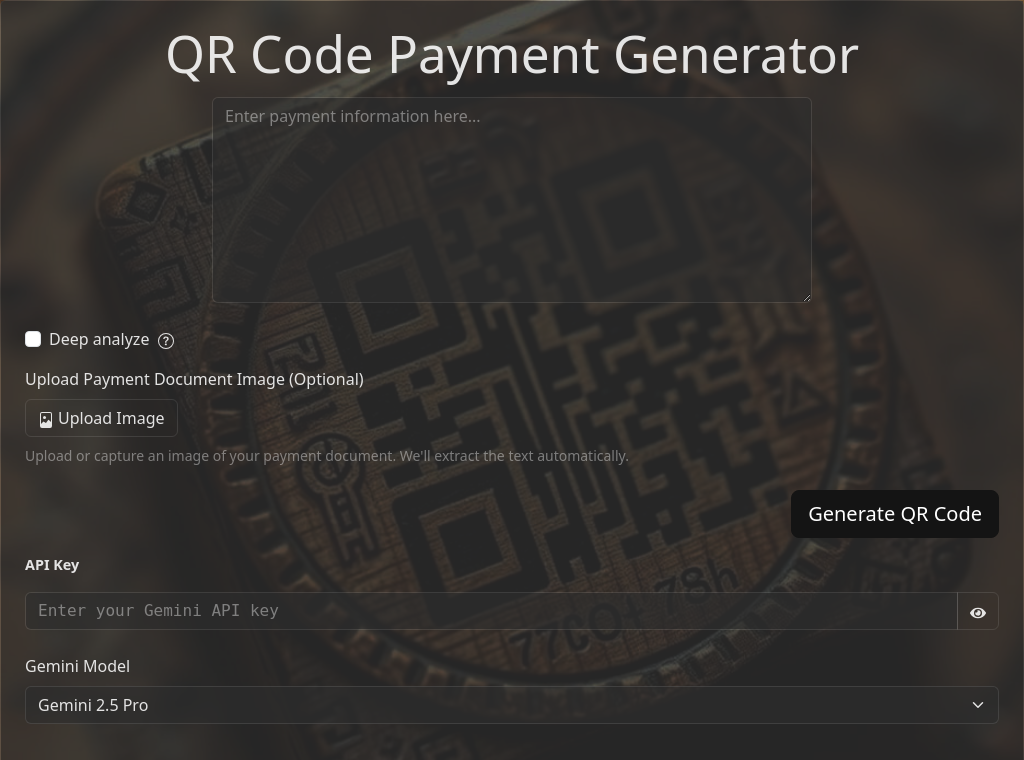
Test: SimpleLayout Component › Missing Bank Information Error › shows error when account_number is missing
In the password field labelled "API Key": coordinates (492, 611) 25,592 -> 958,630, type "test-api-key"
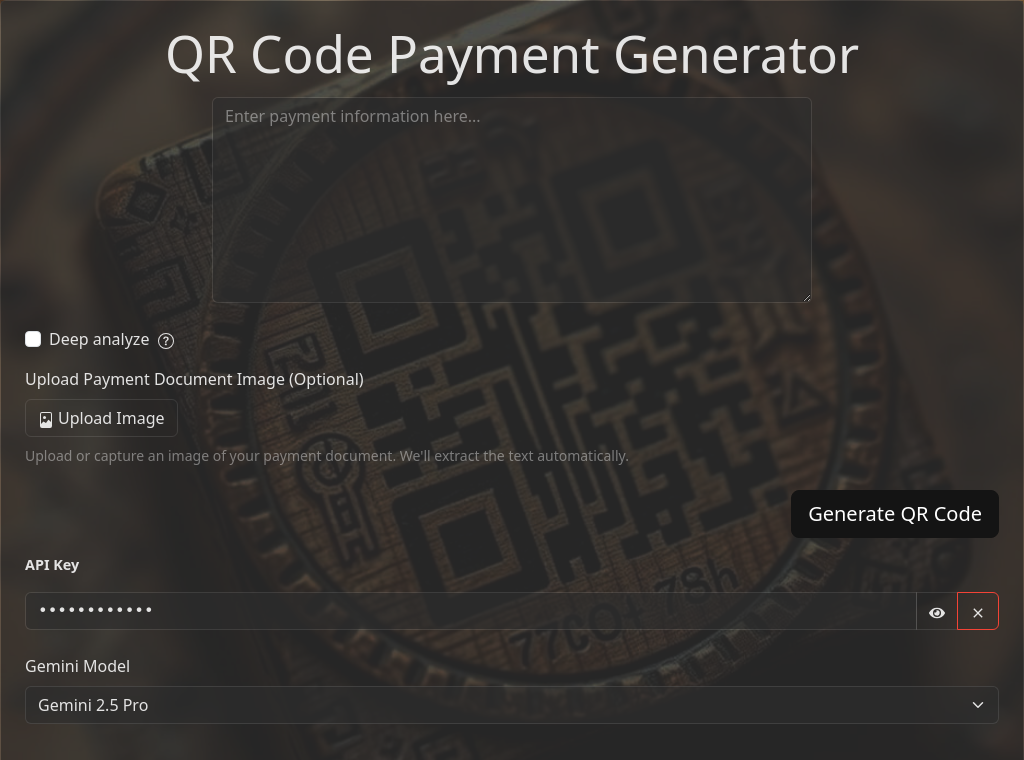
In the text box: coordinates (512, 200) 212,97 -> 812,303, type "Test payment text"
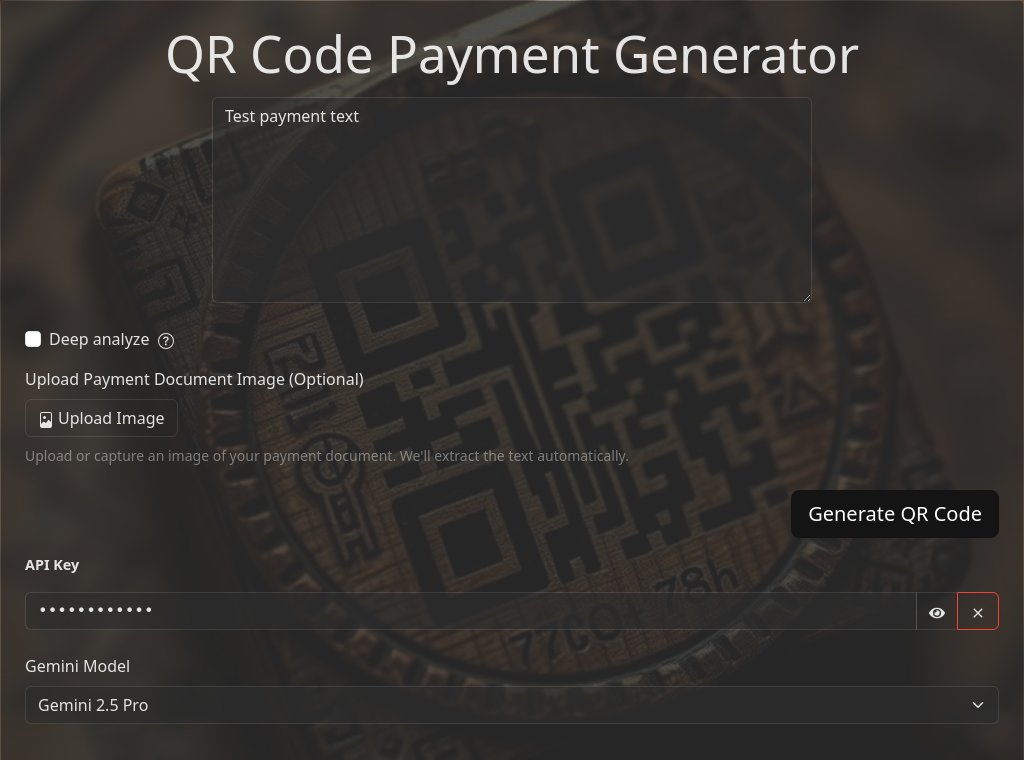
Click the button "Generate QR Code": coordinates (895, 514) 791,490 -> 999,538
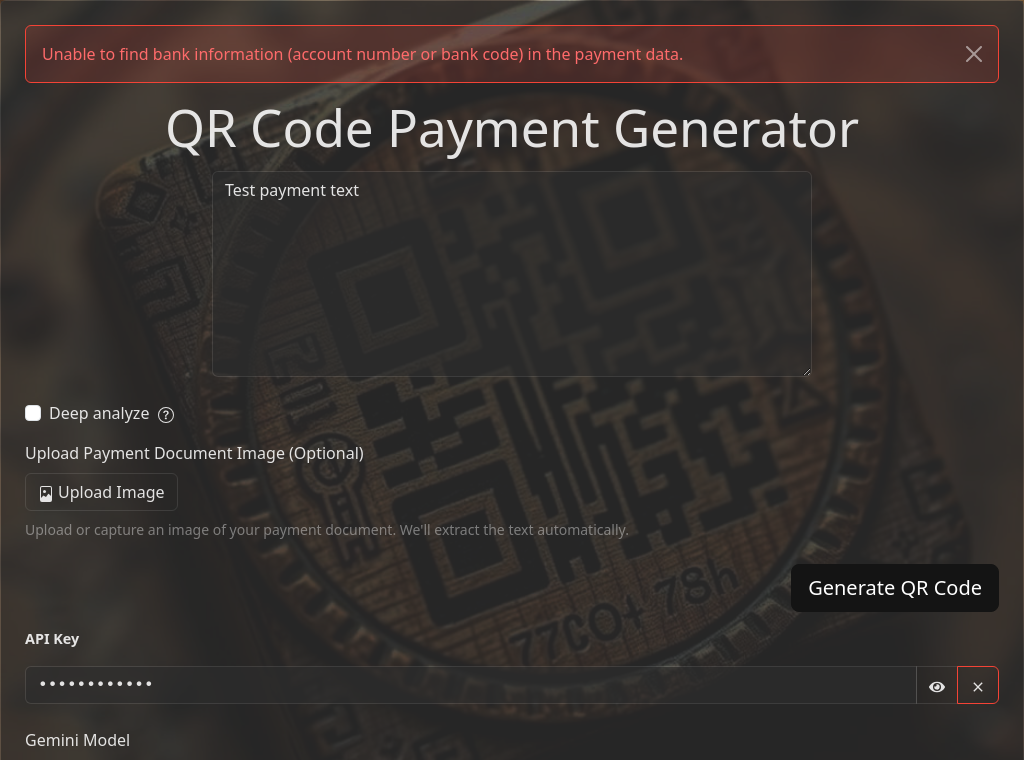
Result: the text "Unable to find bank information (account number or bank code)" is shown at 42,43 -> 683,65
